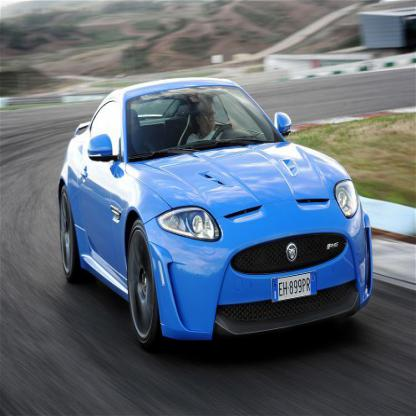Vehicle: (44, 64, 392, 388)
